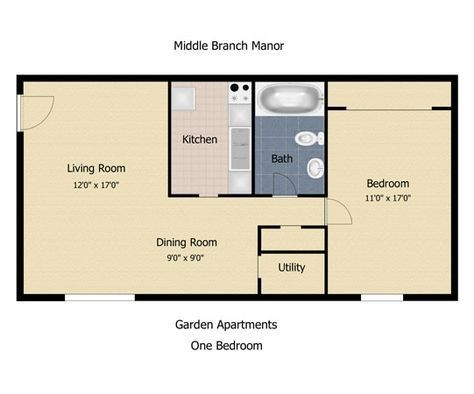door: (15, 94, 60, 132), (320, 193, 358, 228), (268, 167, 304, 202)
room: (323, 67, 465, 313), (17, 73, 166, 306), (166, 71, 257, 200), (250, 73, 335, 204), (251, 69, 331, 199), (166, 193, 259, 304), (256, 250, 331, 305), (249, 199, 332, 232), (258, 225, 329, 257)
wall: (15, 70, 464, 86), (137, 284, 360, 313), (11, 132, 36, 309), (446, 72, 461, 304), (162, 74, 176, 203), (318, 73, 332, 198), (400, 285, 462, 309), (12, 284, 65, 308), (319, 223, 332, 301), (251, 72, 259, 197), (218, 187, 274, 204), (257, 246, 329, 257), (168, 189, 201, 203), (301, 220, 329, 233), (255, 222, 264, 257), (14, 72, 25, 97)
window: (63, 285, 139, 314), (357, 284, 409, 312), (253, 253, 266, 280), (279, 221, 304, 232)
